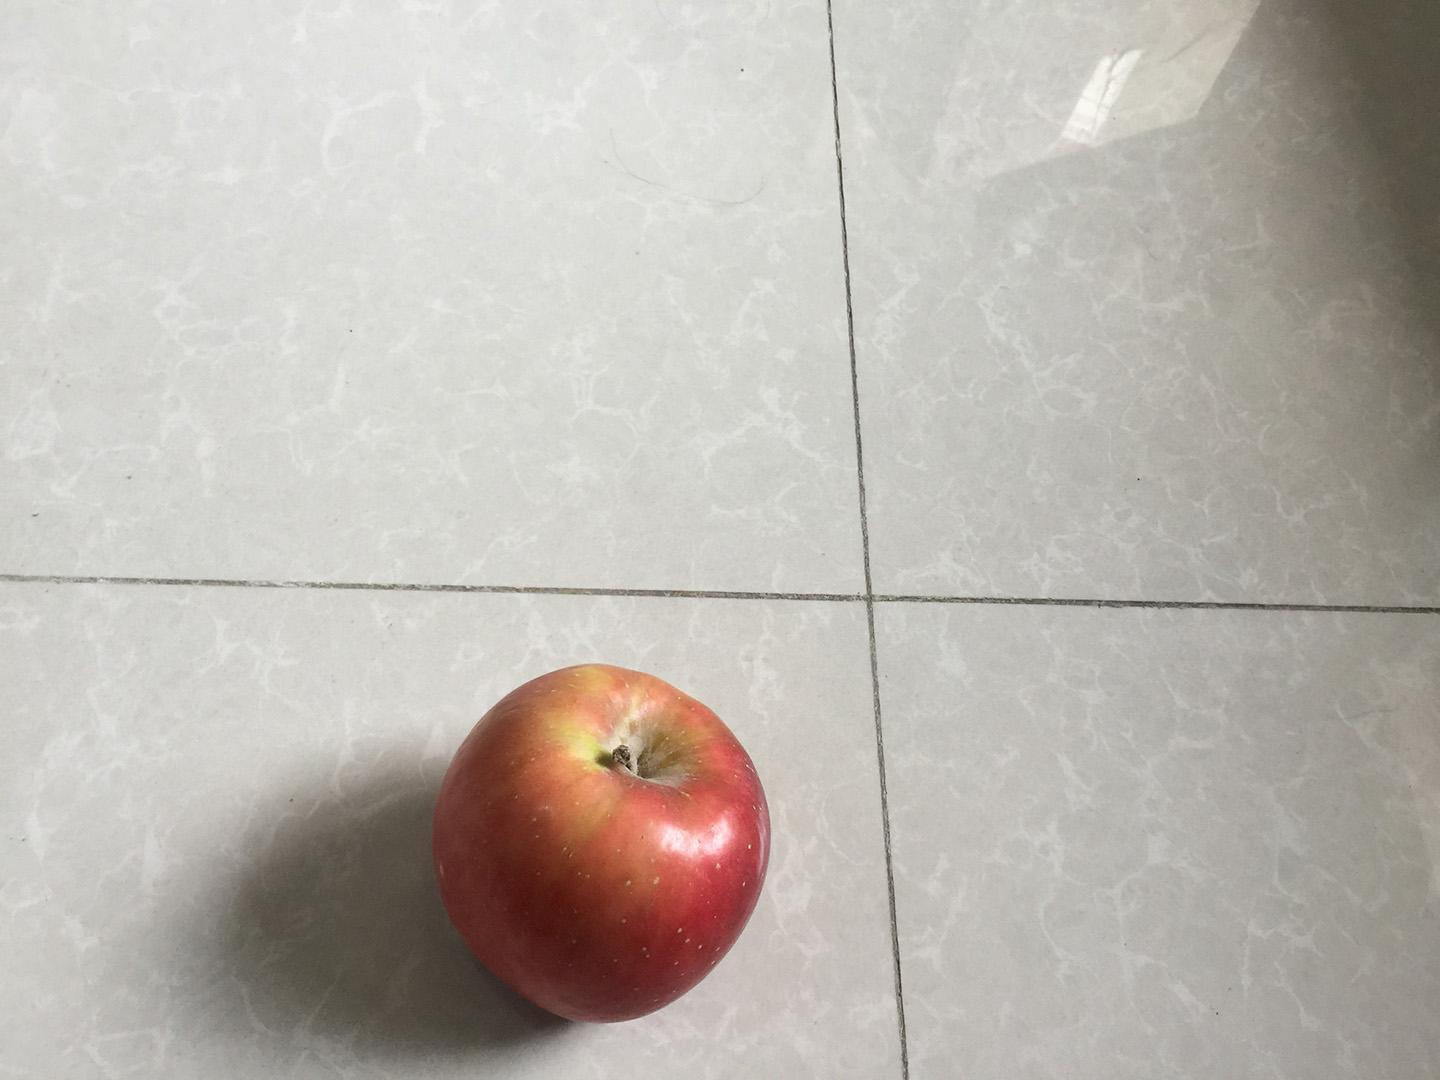apple: (427, 658, 781, 1029)
